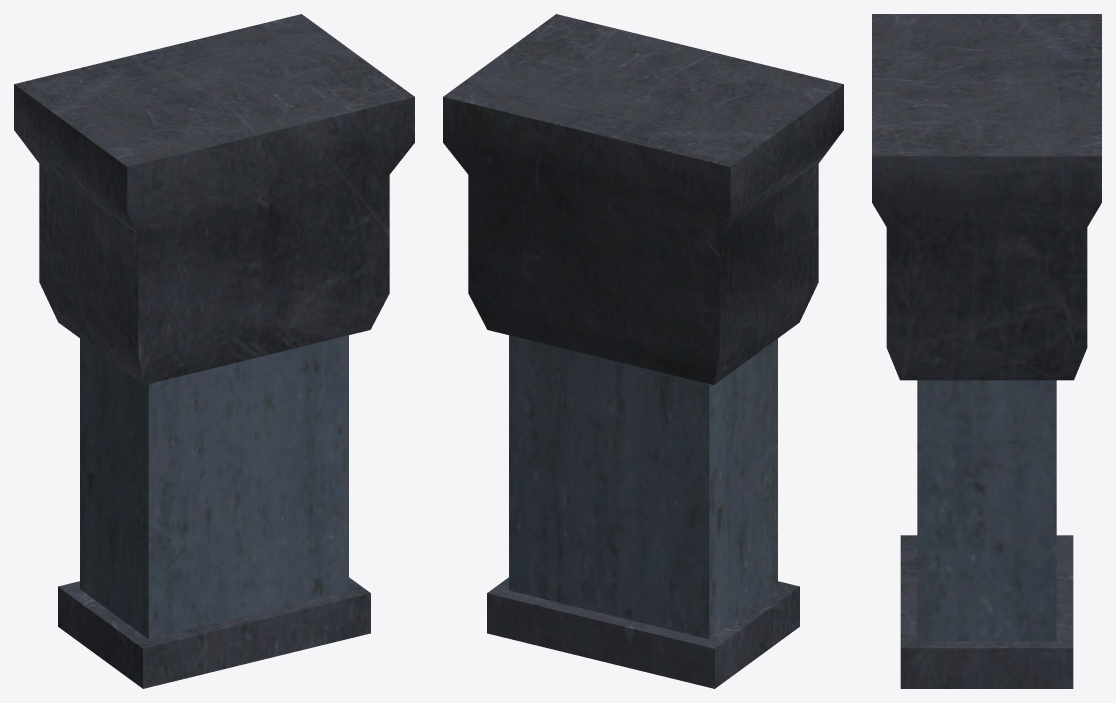
Rendered from Prop_Sg01.glb.
3 renders of one model, left to right at view 1: azimuth 30°, elevation 25°; view 2: azimuth 150°, elevation 25°; view 3: azimuth 270°, elevation 25°, orthographic.
Visible parts, largest first — view 1: xiutz_sg01; view 2: xiutz_sg01; view 3: xiutz_sg01.
Boxes of the visible parts, left/top/right/bottom form: xiutz_sg01: left=14, top=14, right=414, bottom=688; xiutz_sg01: left=443, top=14, right=843, bottom=688; xiutz_sg01: left=872, top=14, right=1101, bottom=688.
Bounding box in the file's own units: 0.3741 × 0.6703 × 0.2551.
Materials: 1 (1 with a texture image).
